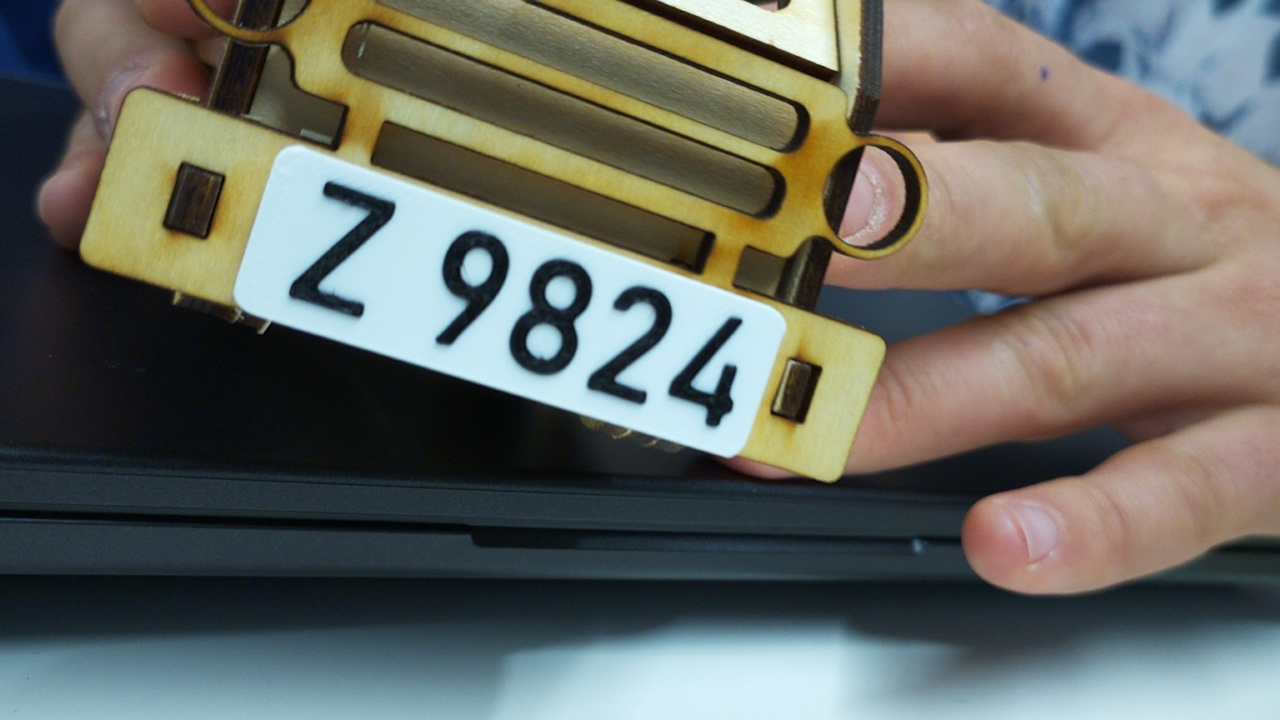license_plate: (228, 141, 788, 462)
